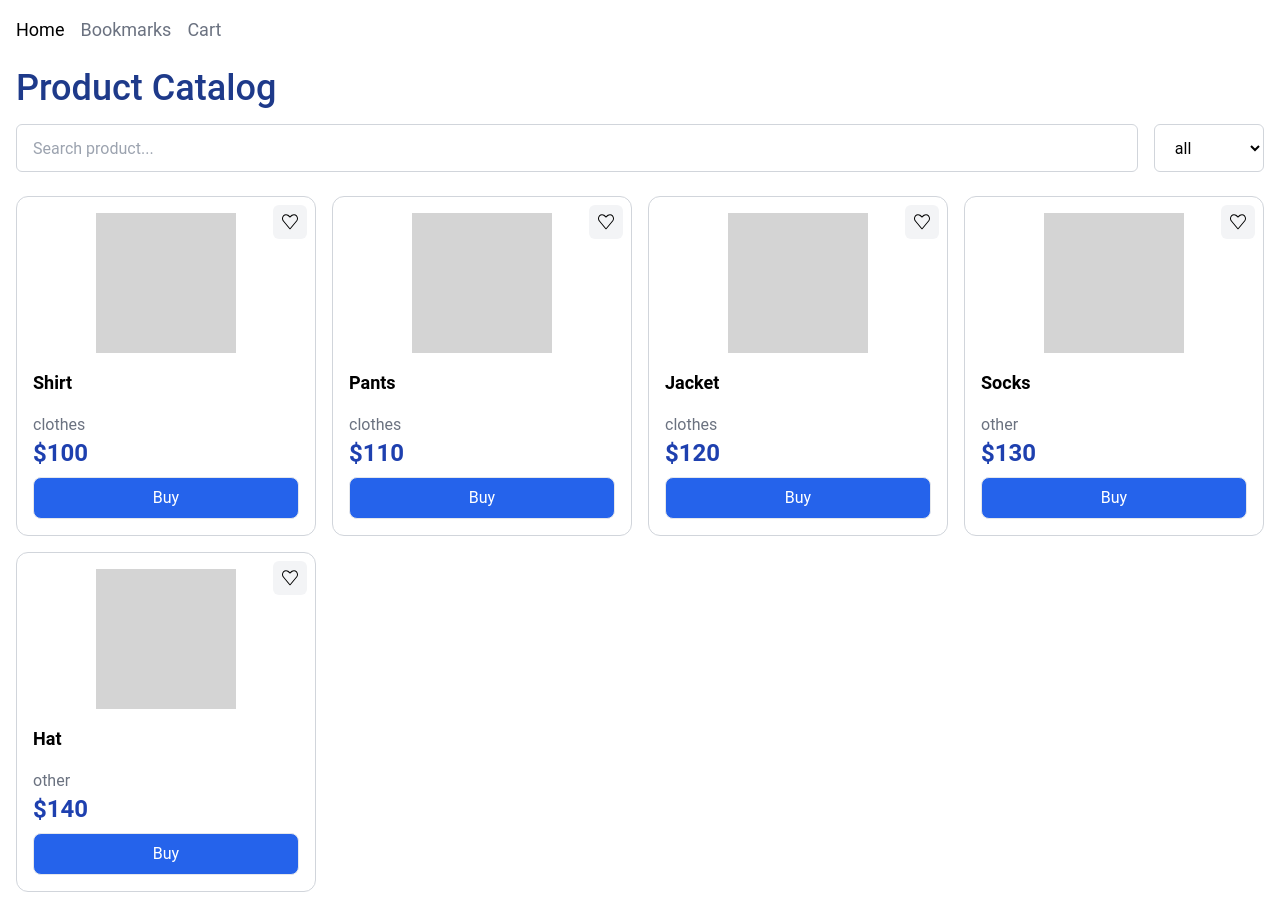
Products List and Filter › Using Filter › Using both search and select
Expected: the number of buttons named "buy-" is 5, [33,477,299,519]; [349,477,615,519]; [665,477,931,519]; [981,477,1247,519]; [33,833,299,875]
Type "p" into the field named "Filter search" at [577, 148], box [16,124,1138,172]
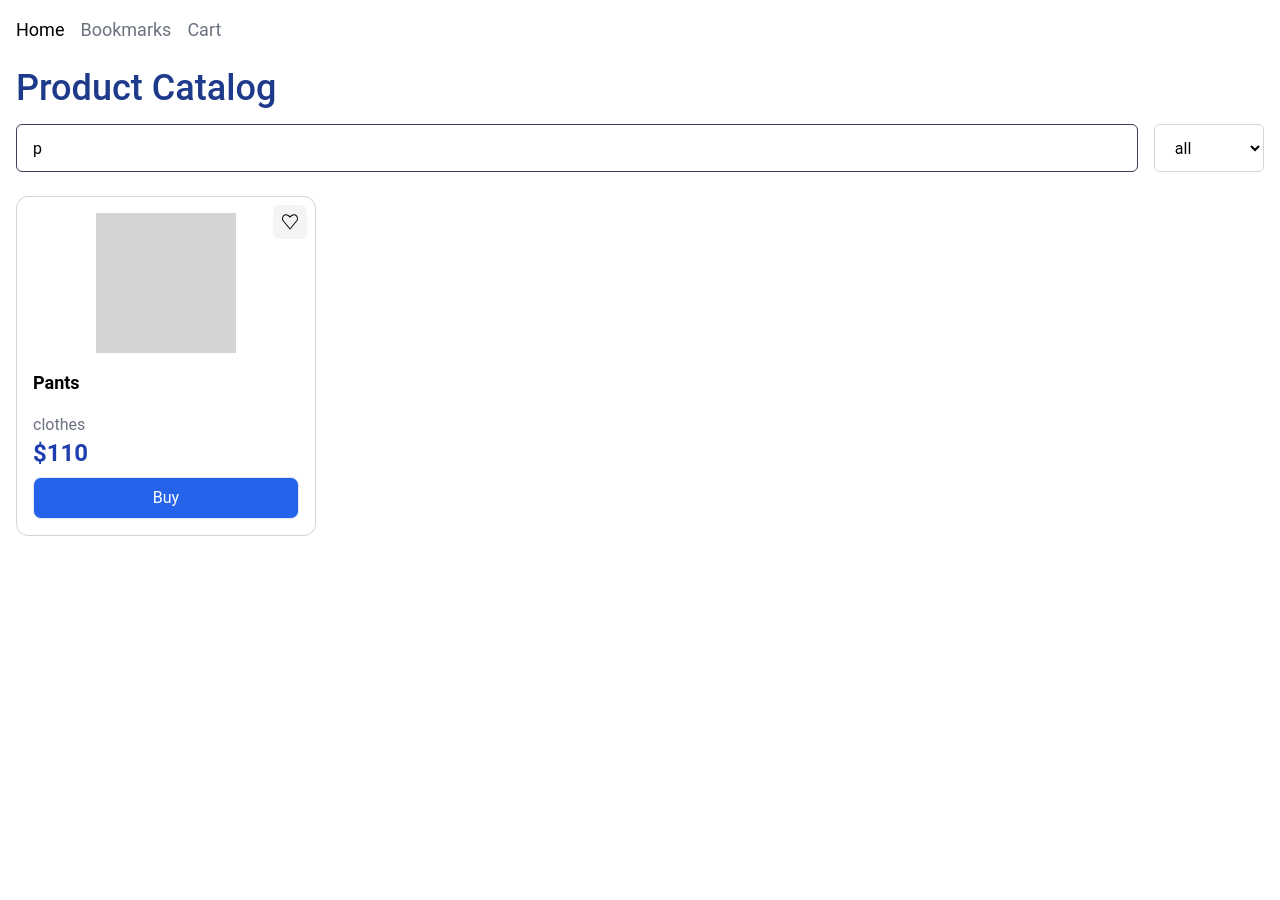
Select "clothes" in the dropdown named "Filter select" at [1209, 148], box [1154,124,1264,172]
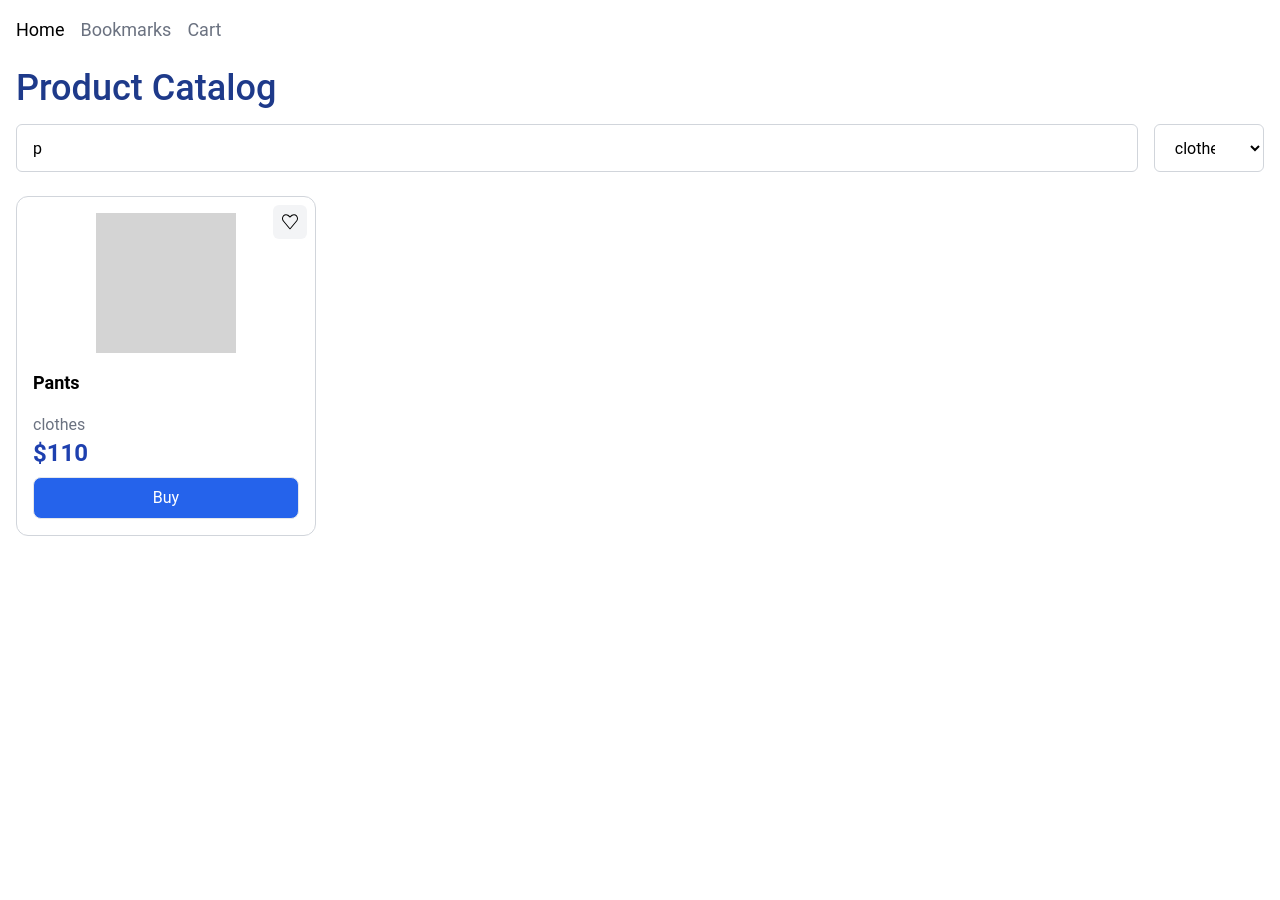
Expected: the number of buttons named "buy-" is 1, [33,477,299,519]
Select "all" in the dropdown named "Filter select" at [1209, 148], box [1154,124,1264,172]
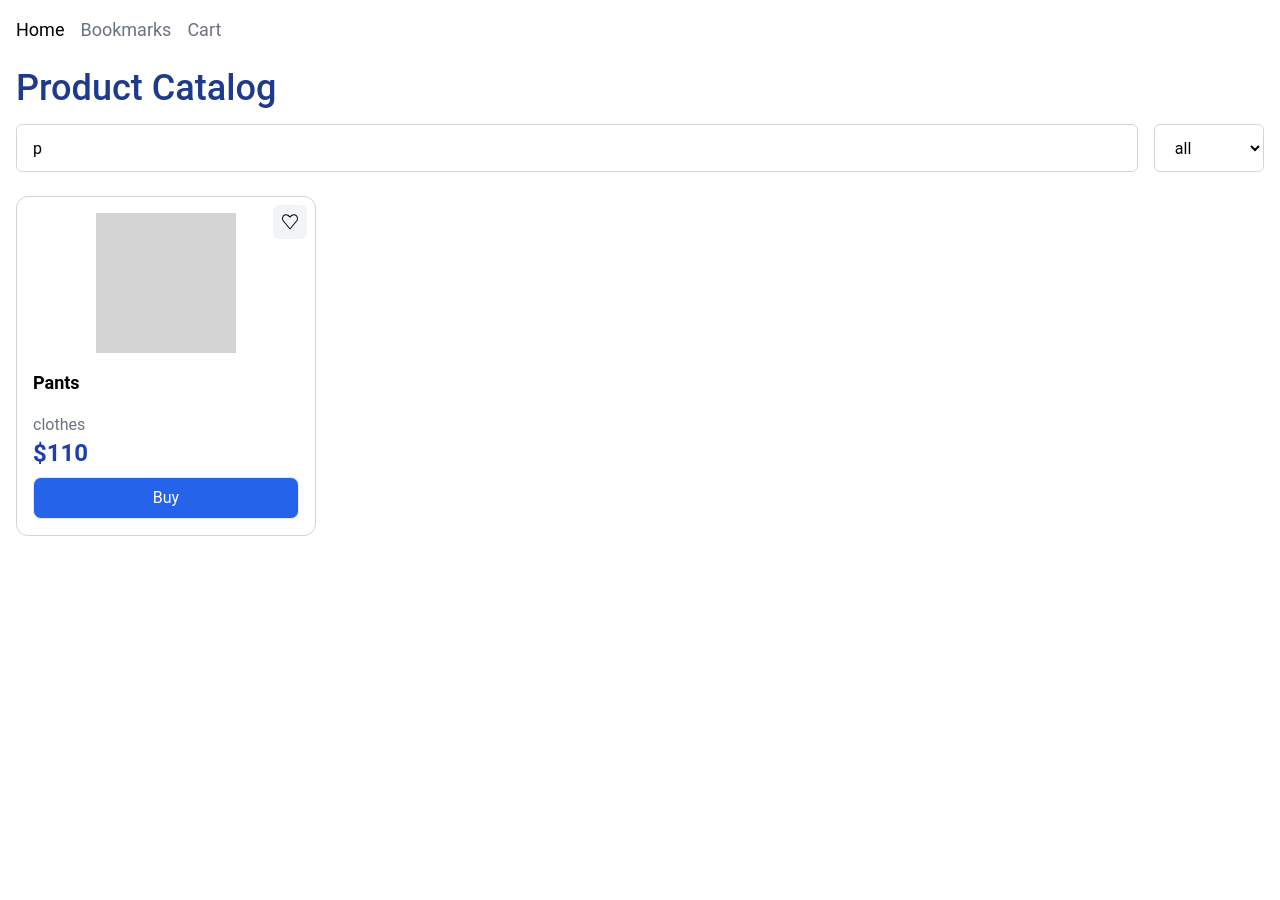
Clear the field named "Filter search" at [577, 148], box [16,124,1138,172]
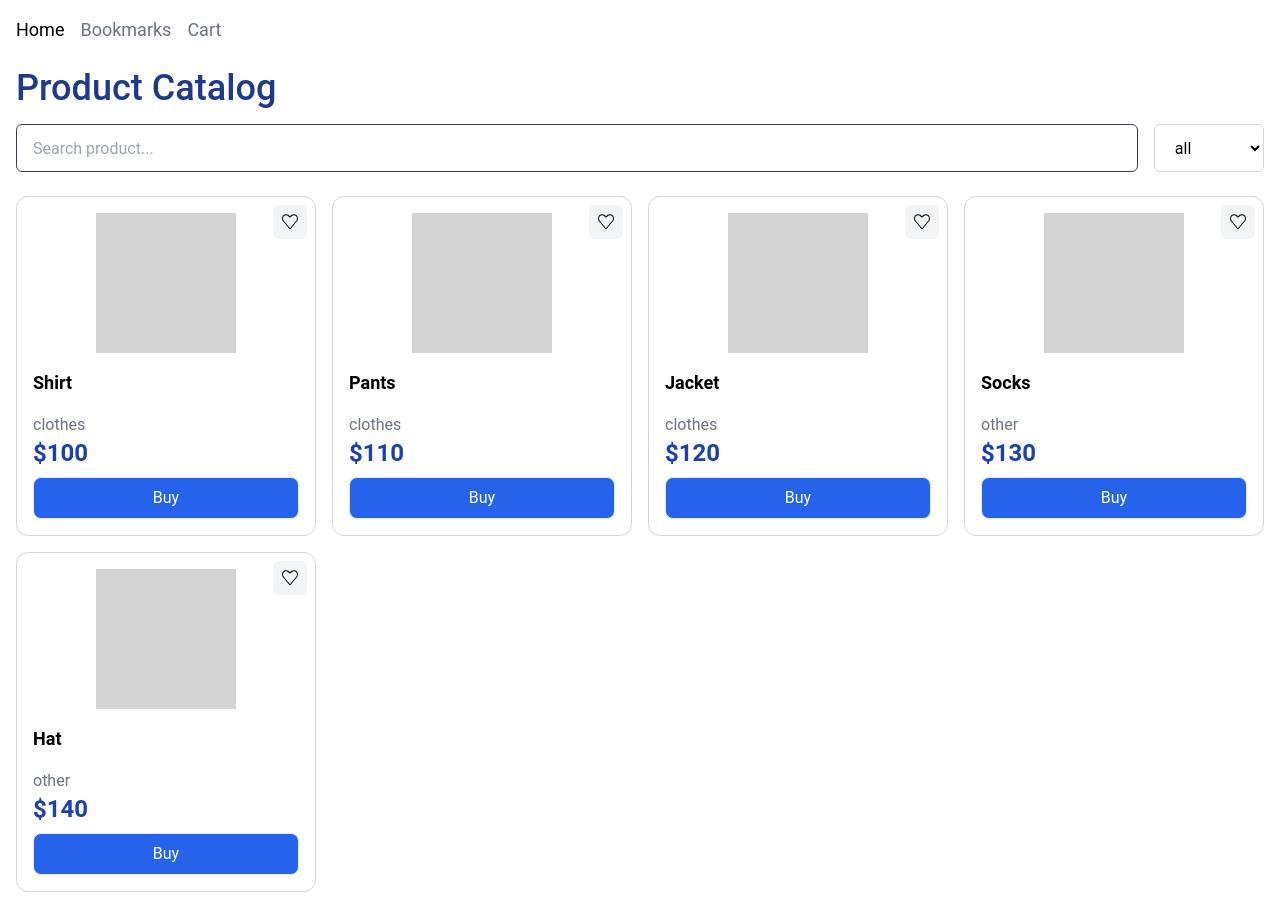
Expected: the number of buttons named "buy-" is 5, [33,477,299,519]; [349,477,615,519]; [665,477,931,519]; [981,477,1247,519]; [33,833,299,875]
